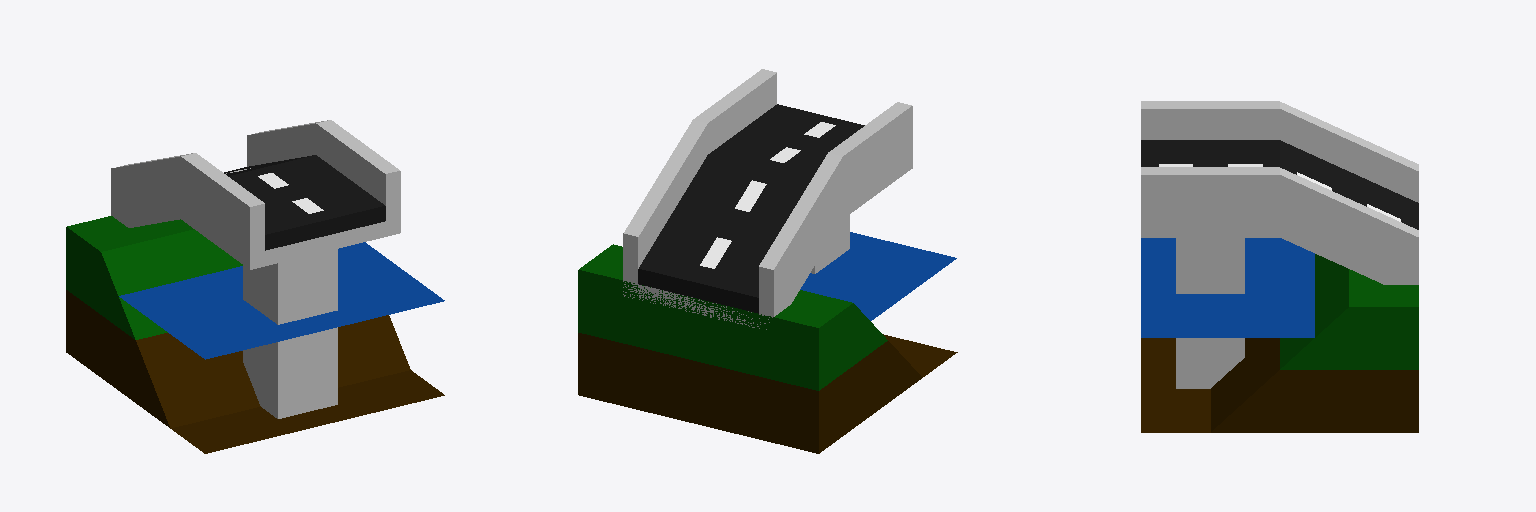
The picture shows the model from 3 angles: view 1: azimuth 30°, elevation 25°; view 2: azimuth 150°, elevation 25°; view 3: azimuth 270°, elevation 25°; orthographic projection.
Parts seen in each view (by area): view 1: beton, dirt, water, grass, road, plane; view 2: beton, dirt, road, grass, water, plane; view 3: beton, dirt, water, grass, road.
Part boxes in pixels (x1,y1,x2,y2): beton: (111, 120, 400, 418); dirt: (66, 290, 444, 453); water: (119, 242, 444, 359); grass: (66, 216, 242, 339); road: (224, 155, 385, 250); plane: (226, 168, 323, 213); beton: (623, 69, 912, 329); dirt: (578, 333, 957, 453); road: (638, 104, 864, 313); grass: (578, 244, 887, 390); water: (800, 232, 956, 320); plane: (700, 122, 835, 268); beton: (1141, 101, 1418, 388); dirt: (1141, 338, 1418, 432); water: (1141, 238, 1314, 337); grass: (1280, 254, 1418, 369); road: (1141, 140, 1418, 229).
Bounding box in the file's own units: 1 × 0.9375 × 1.
Materials: 6 (6 with a texture image).